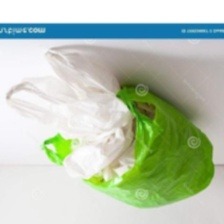plastic_bag: (35, 83, 219, 212), (1, 46, 140, 144), (57, 122, 138, 182)
